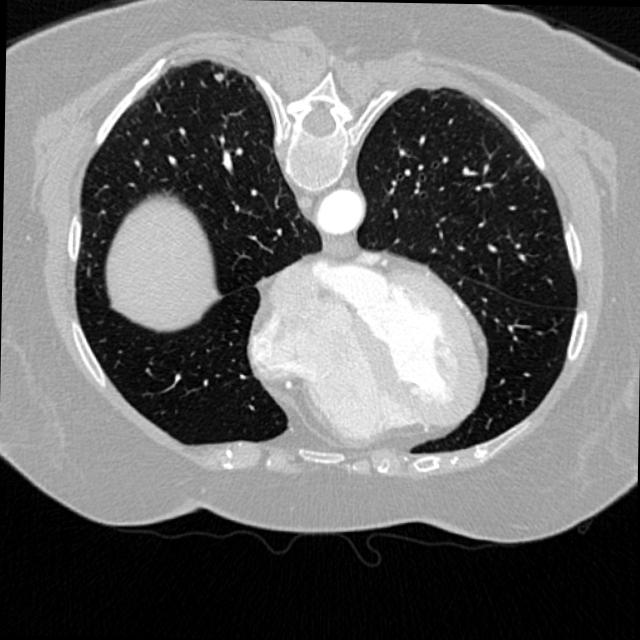nodule: (205, 67, 225, 87)
